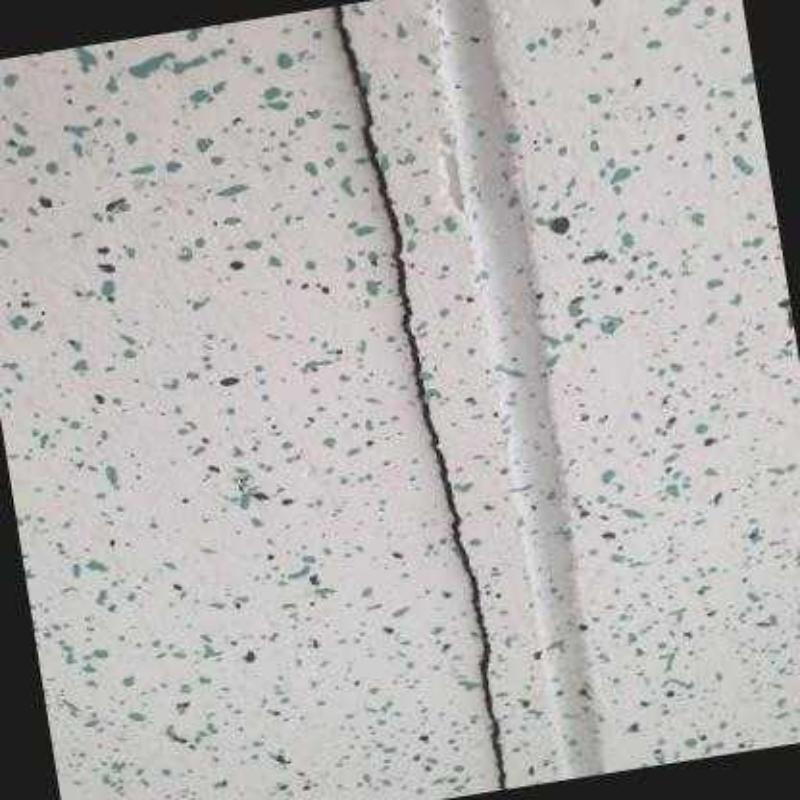pothole: (330, 4, 510, 789)
